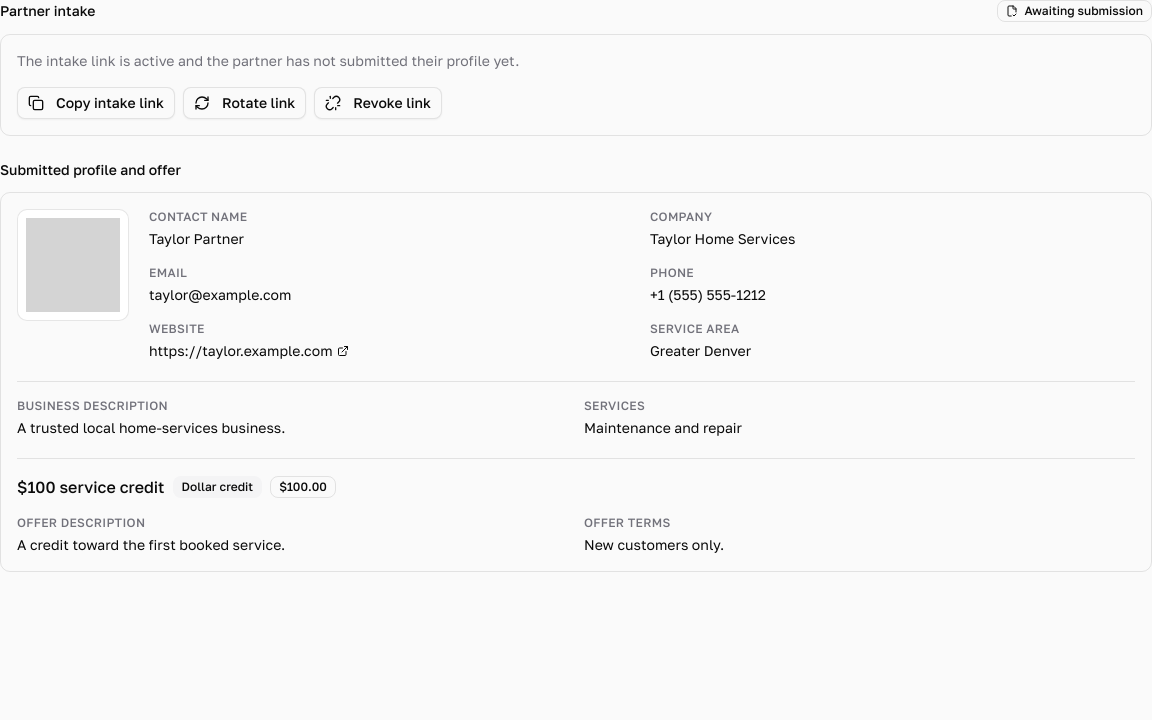
Scenario: ReferralPartnerIntakePanel › rotates only after confirmation and exposes the replacement link
Step 1. Click the button "Rotate link" → [245, 103], box left=183, top=87, right=306, bottom=119
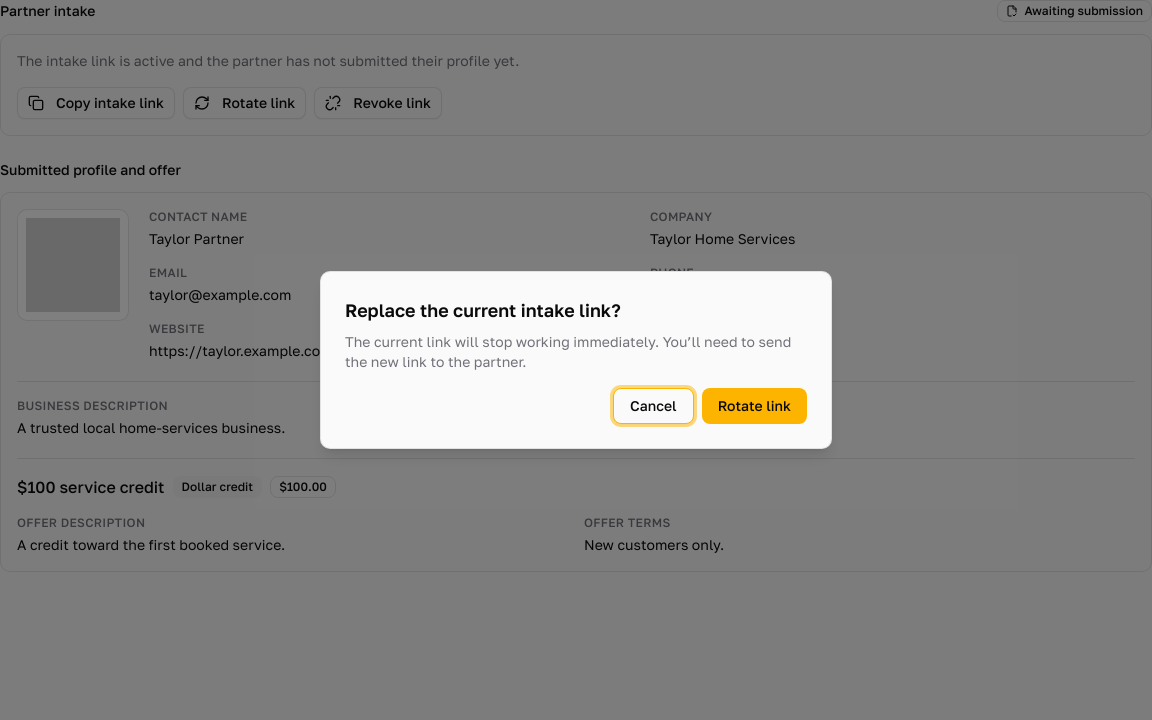
Expected: the heading "Replace the current intake link?" is shown, left=345, top=299, right=621, bottom=321
Step 2. Click the button "Rotate link" → [754, 406], box left=702, top=388, right=807, bottom=424
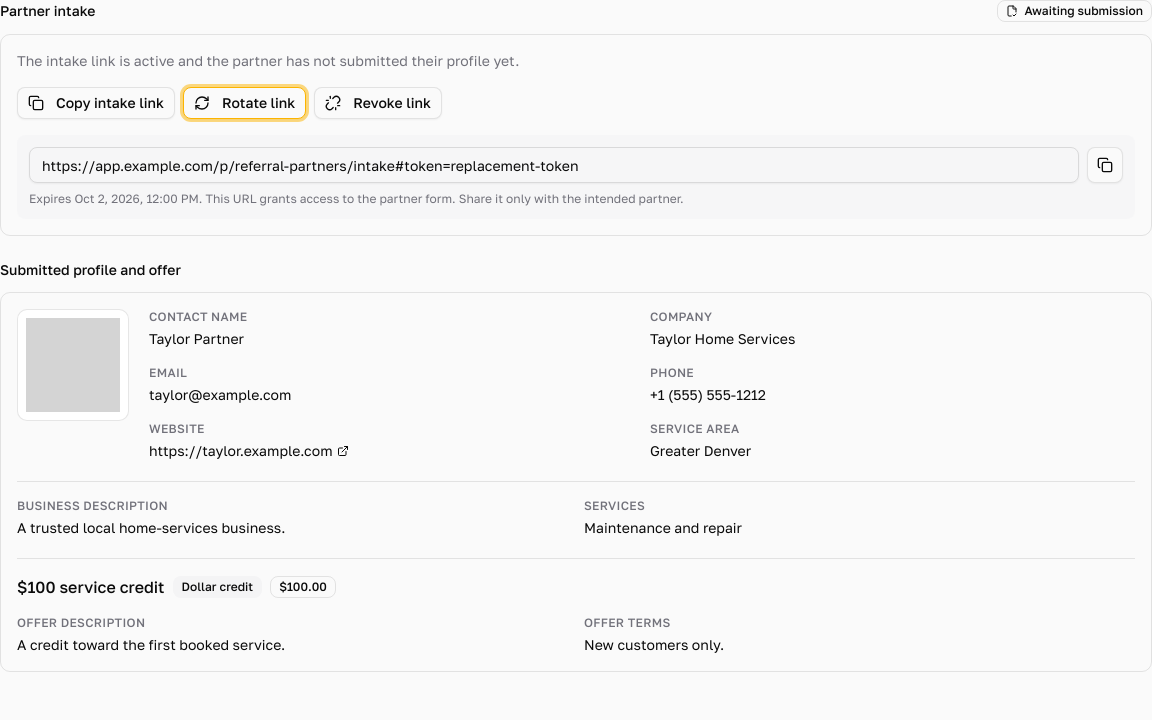
Expected: the field named "Referral partner intake link" holds "https://app.example.com/p/referral-partners/intake#token=replacement-token", left=29, top=147, right=1079, bottom=183
